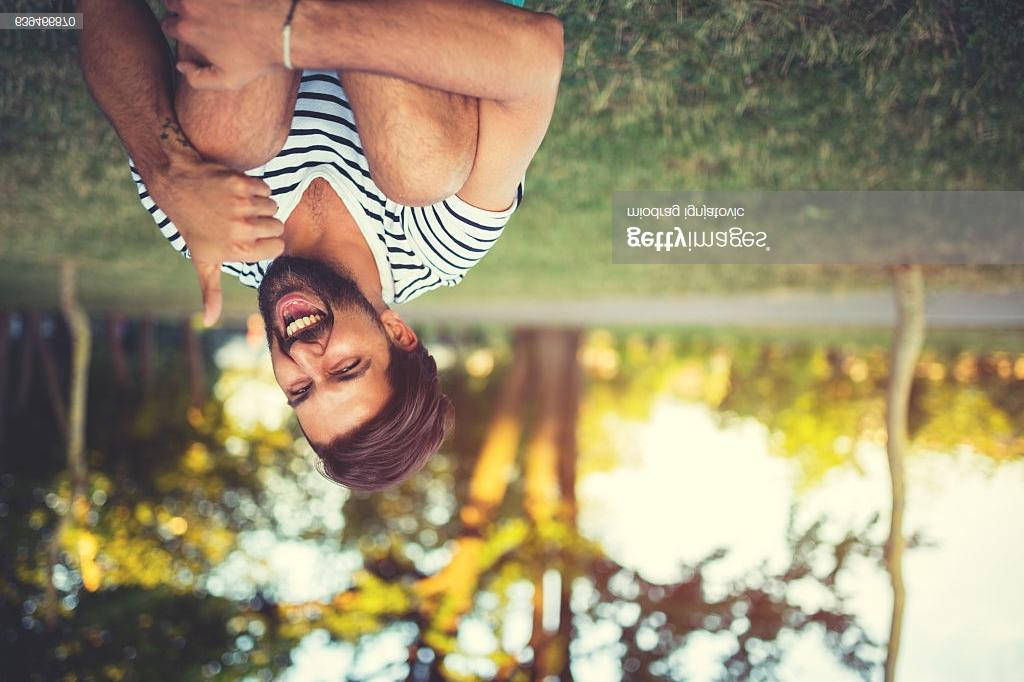thumbsdown: (200, 171, 285, 327)
